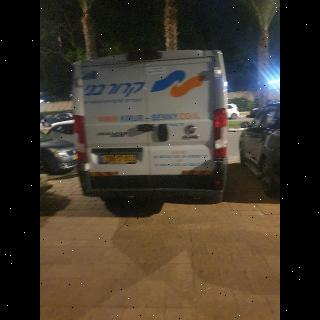LicensePlate: (104, 155, 136, 161)
